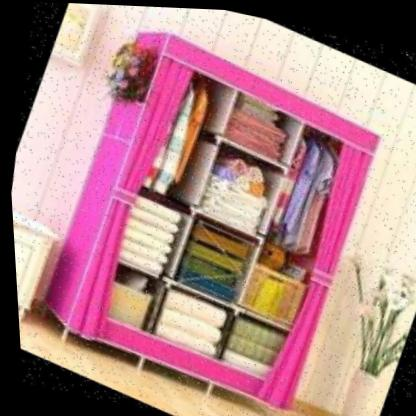Closet: (0, 6, 407, 416)
